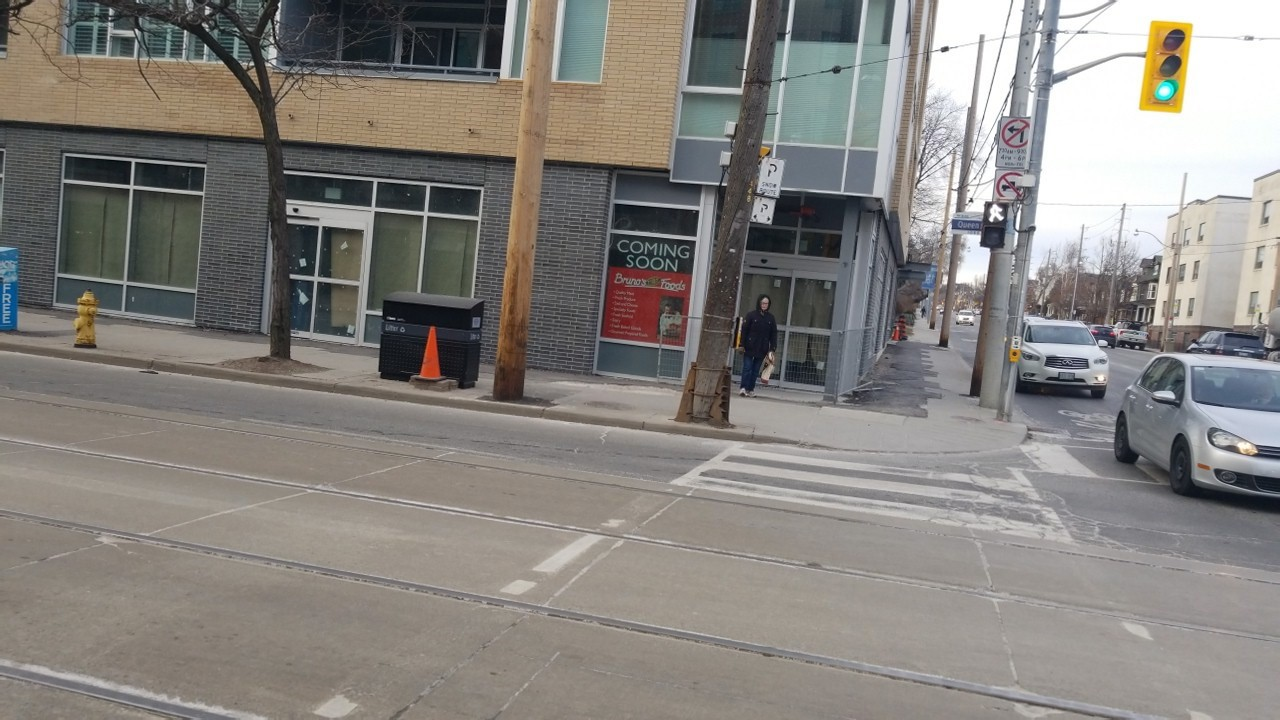light: (978, 197, 1009, 253)
